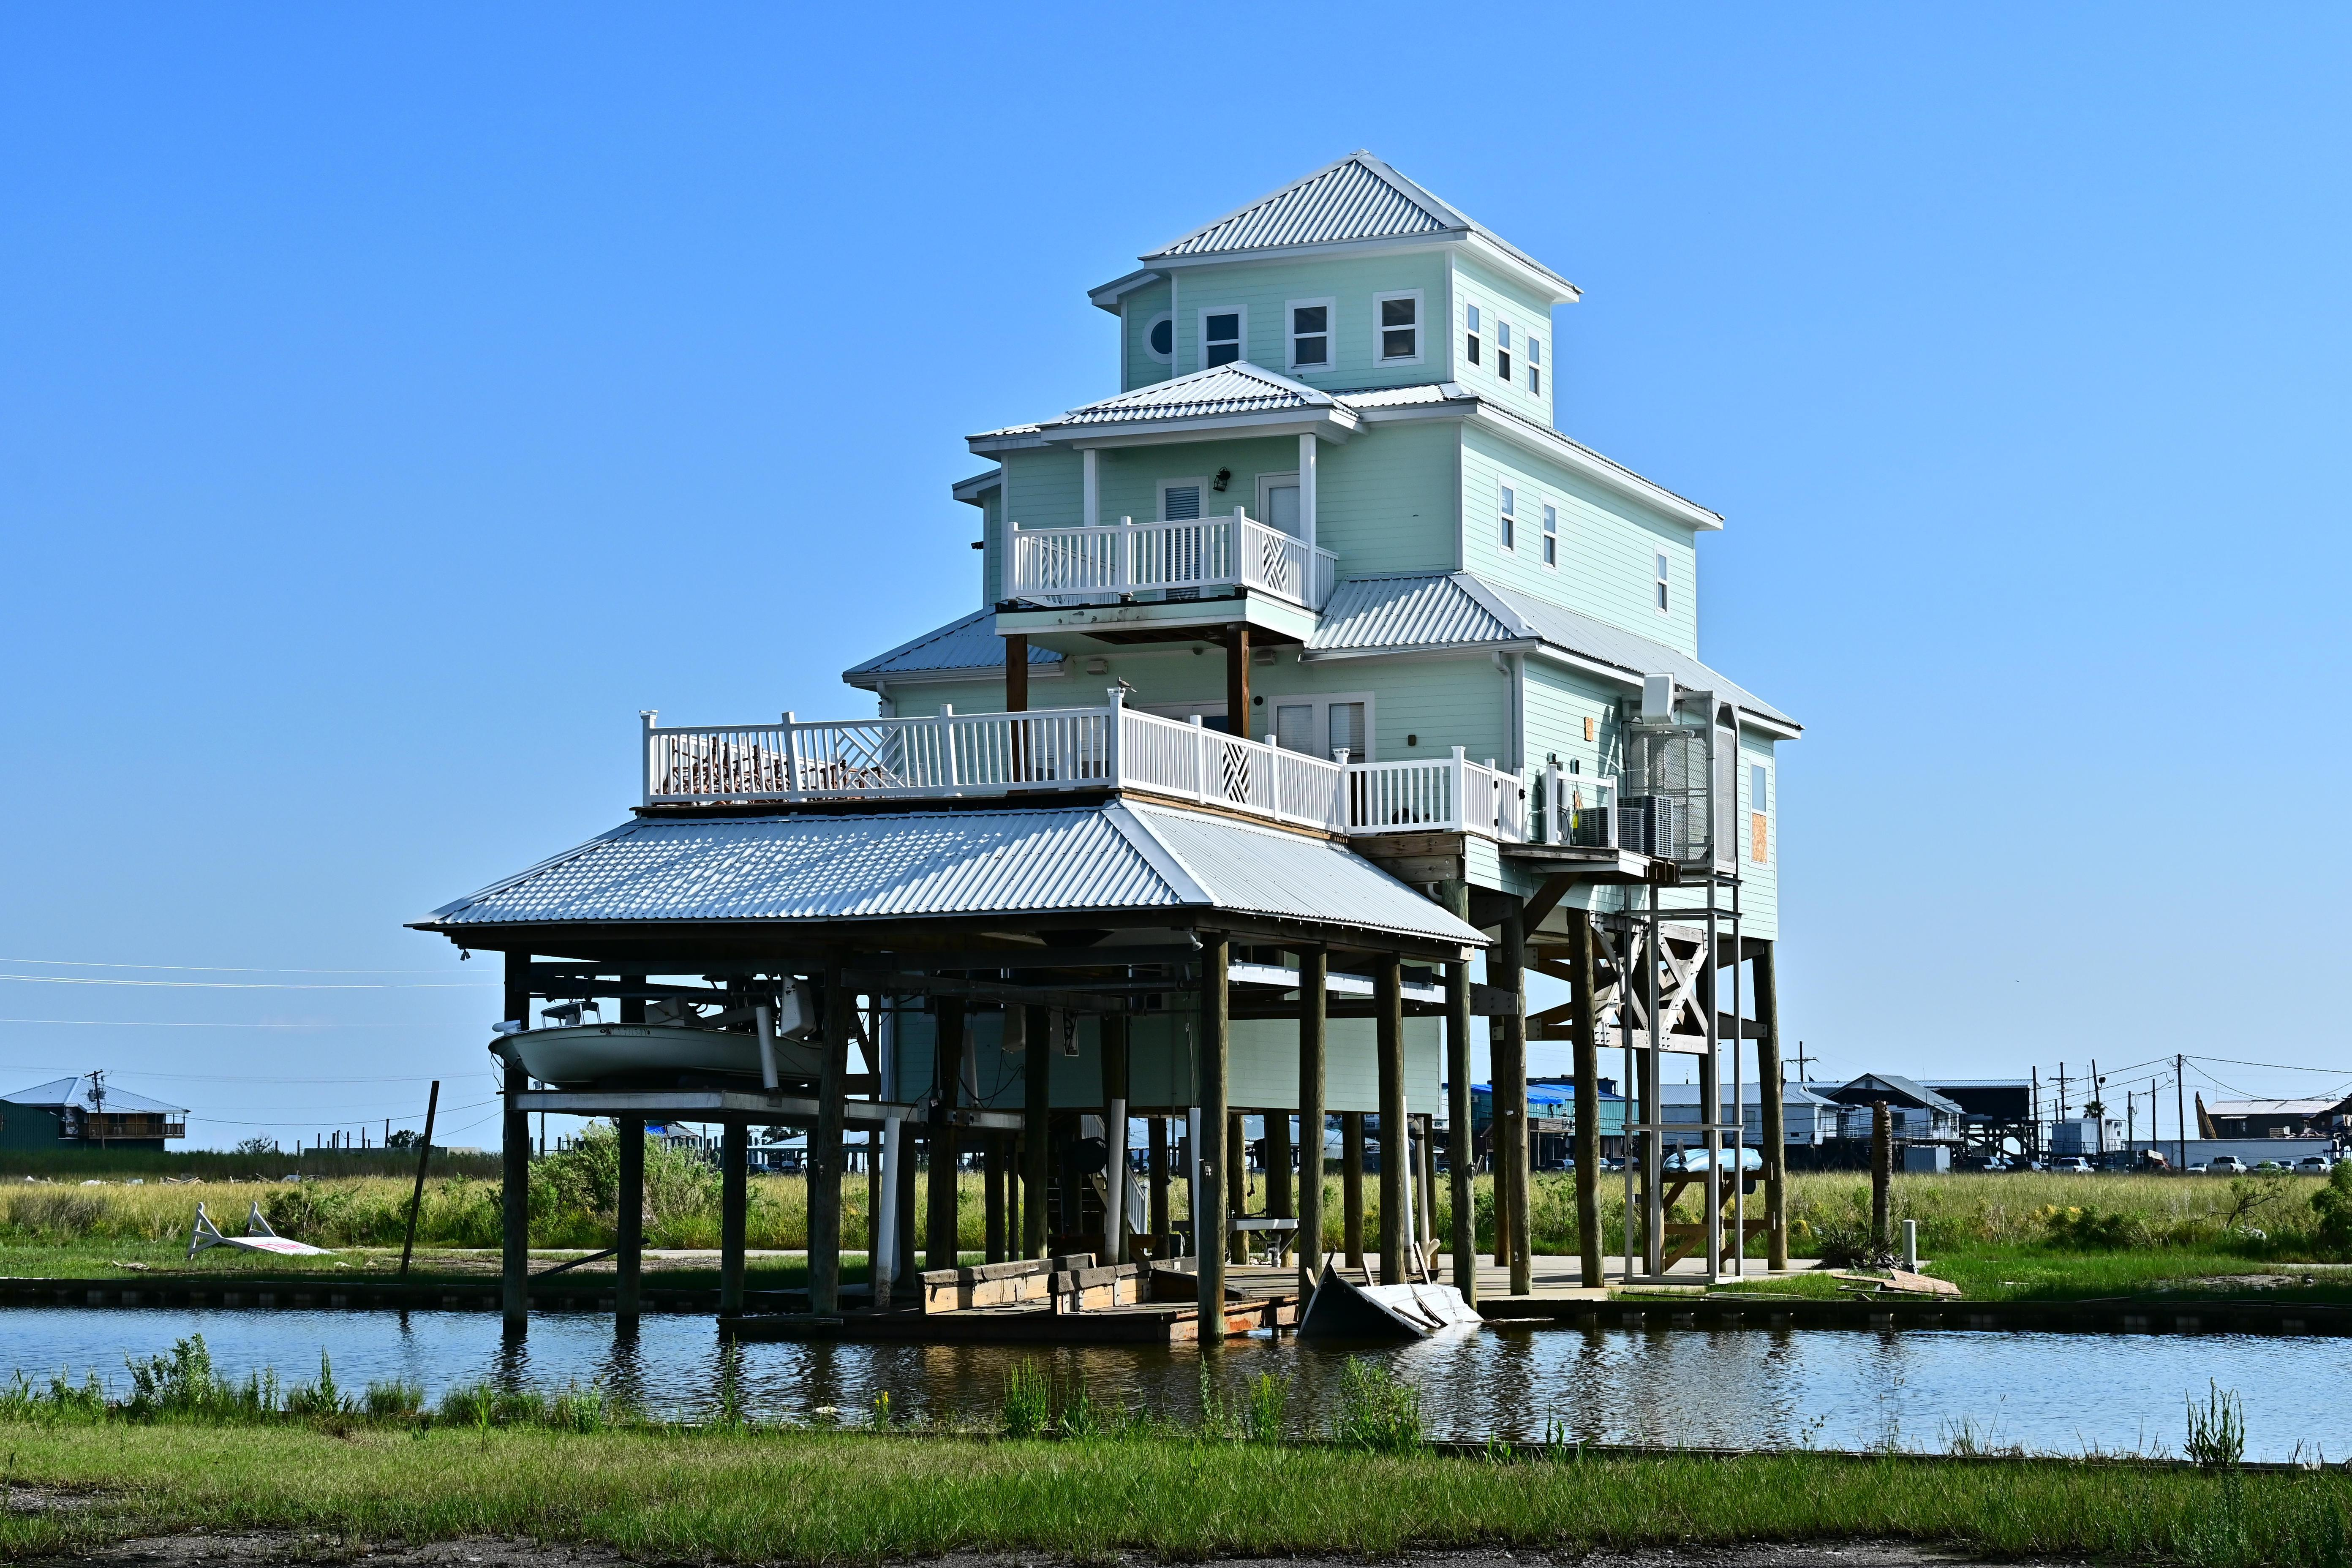affected: (429, 133, 1848, 1318)
